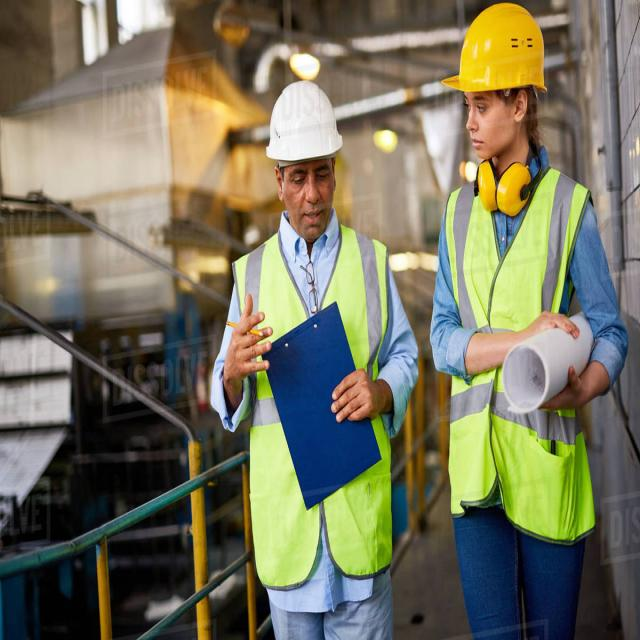Reflective-Jacket: (229, 228, 395, 590), (442, 162, 596, 538)
Safety-Helmet: (442, 1, 551, 99), (265, 76, 346, 164)
